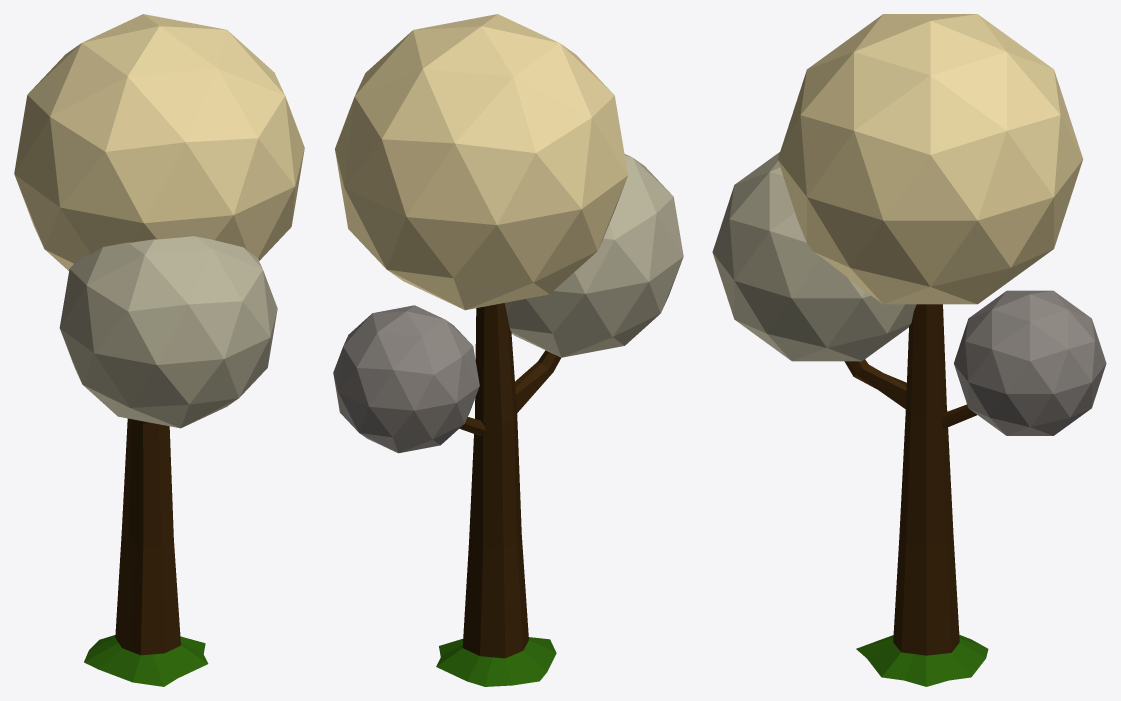
Rendered from treeHighSnowy.glb.
The picture shows the model from 3 angles, left to right: view 1: azimuth 30°, elevation 25°; view 2: azimuth 150°, elevation 25°; view 3: azimuth 270°, elevation 25°; orthographic projection. The views are drawn at different scales.
Parts seen in each view (by area): view 1: Icosphere, Icosphere.002, Cube; view 2: Icosphere, Cube, Icosphere.002, Icosphere.001; view 3: Icosphere, Cube, Icosphere.002, Icosphere.001.
Part boxes in pixels (x1=…): Icosphere: x1=14, y1=14, x2=304, y2=270; Icosphere.002: x1=59, y1=236, x2=277, y2=428; Cube: x1=84, y1=418, x2=208, y2=686; Icosphere: x1=335, y1=14, x2=627, y2=310; Cube: x1=436, y1=303, x2=560, y2=686; Icosphere.002: x1=504, y1=154, x2=683, y2=357; Icosphere.001: x1=333, y1=305, x2=479, y2=453; Icosphere: x1=778, y1=14, x2=1083, y2=304; Cube: x1=844, y1=304, x2=988, y2=686; Icosphere.002: x1=712, y1=152, x2=916, y2=361; Icosphere.001: x1=954, y1=290, x2=1106, y2=435.
Bounding box in the file's own units: 7.94 × 18.61 × 10.32.
